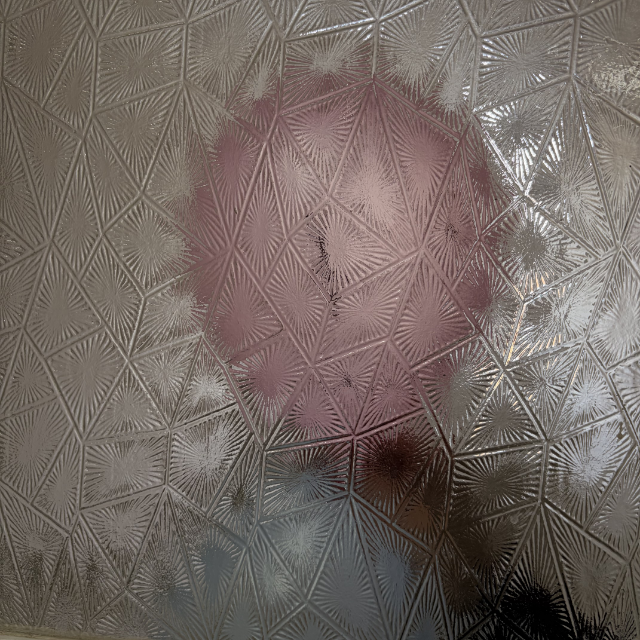balloon: (189, 70, 498, 485)
